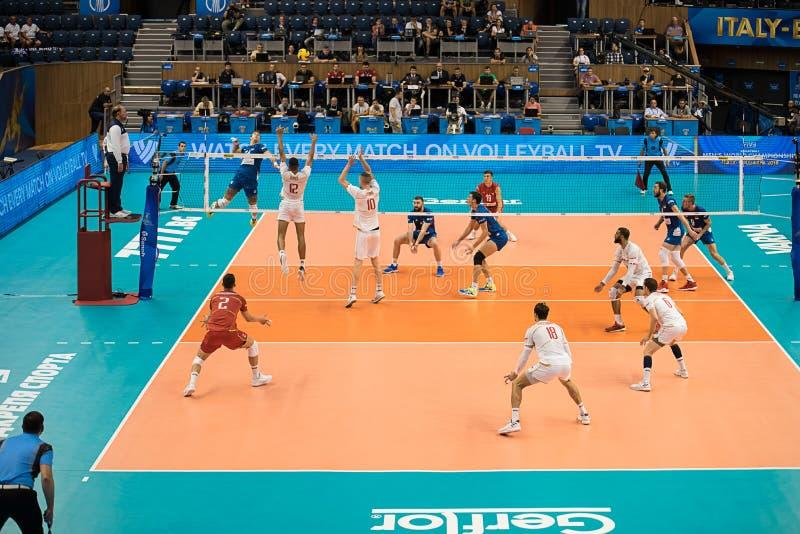ballon_volley: (296, 46, 310, 62)
